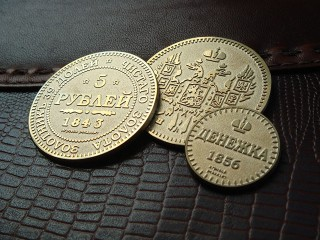coin: (138, 35, 272, 147), (26, 50, 157, 164), (183, 108, 280, 190)
